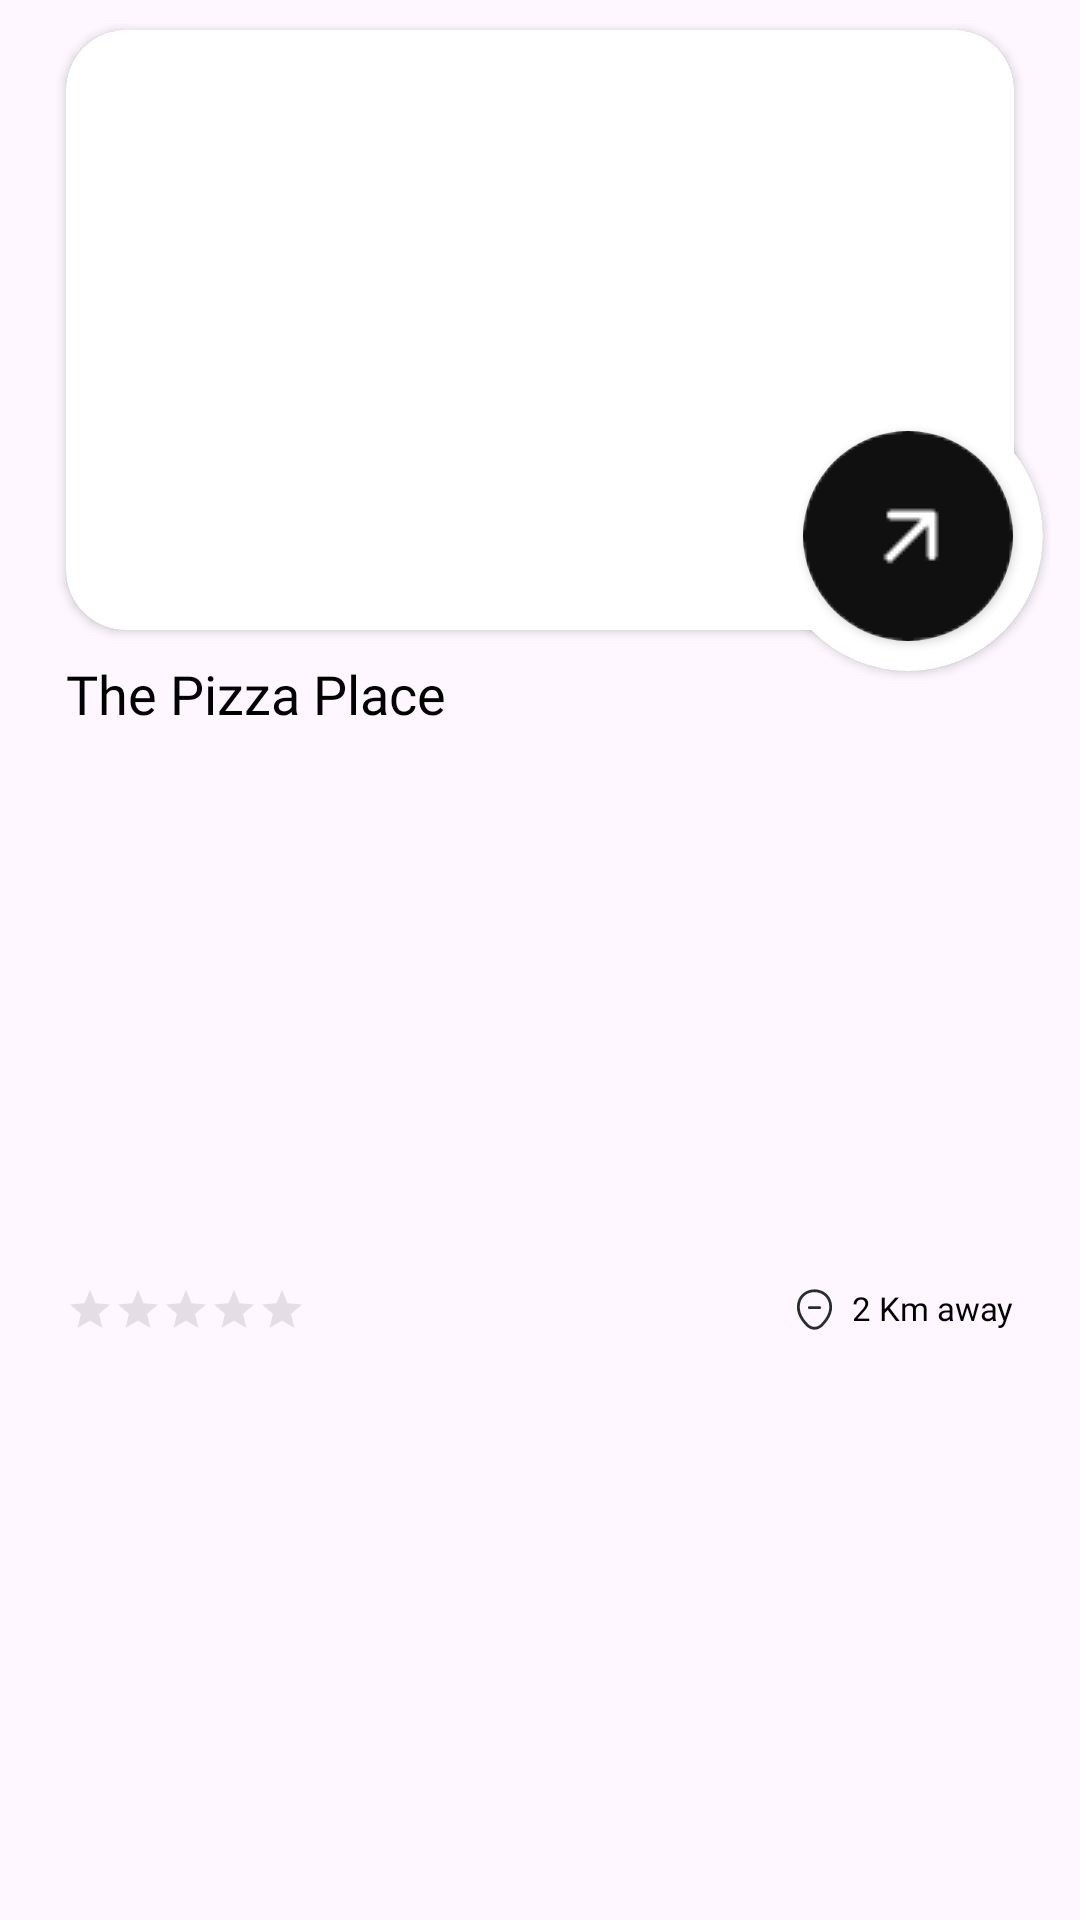

Screen size 1080 × 1920. Icon name, then its box in pixels as {"left": x1, "top": y1, "right": x2, "bottom": y2}:
fab: {"left": 803, "top": 431, "right": 1013, "bottom": 641}
location minus: {"left": 797, "top": 1289, "right": 832, "bottom": 1330}
